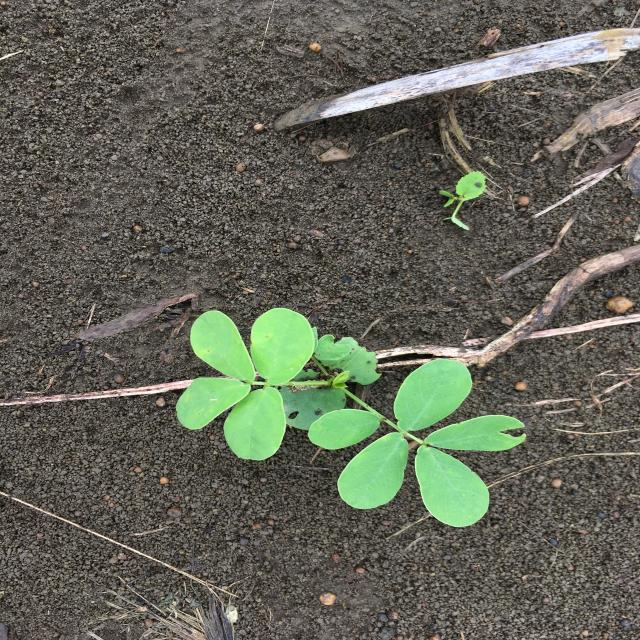Sicklepod: (176, 307, 526, 527)
